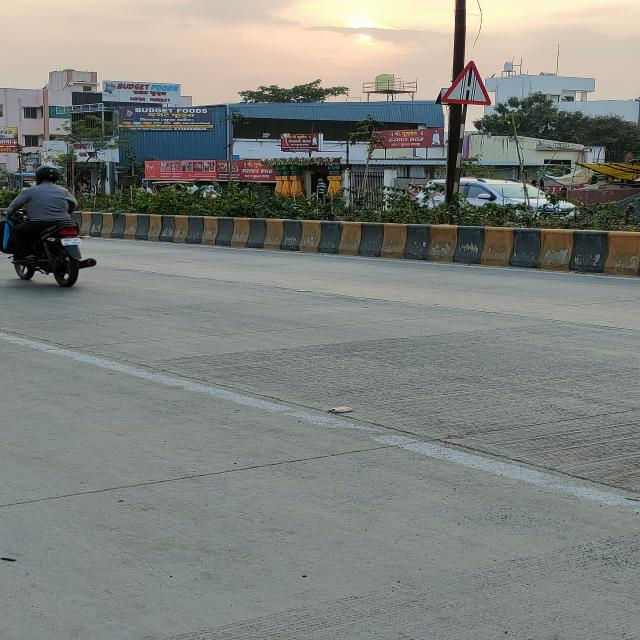GAP_IN_MEDIAN: (440, 60, 491, 106)
